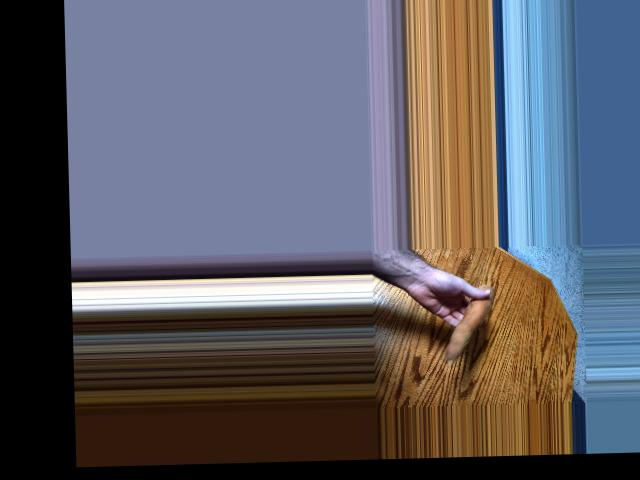sweet_potato: (443, 282, 496, 360)
